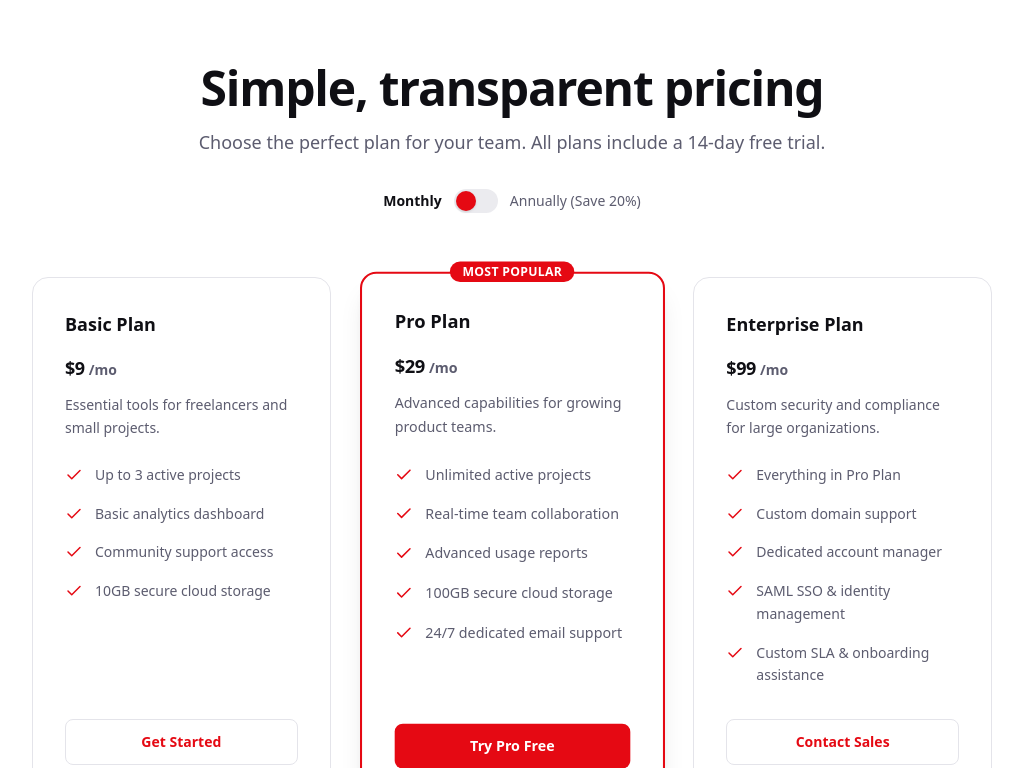
Test: ThreeTier › toggles the billing period and shows discounted pricing
The image size is (1024, 768).
Note: Toggle to Annual billing
Click the button named "Toggle billing period". click: (476, 201)
box: 454,189 -> 498,213
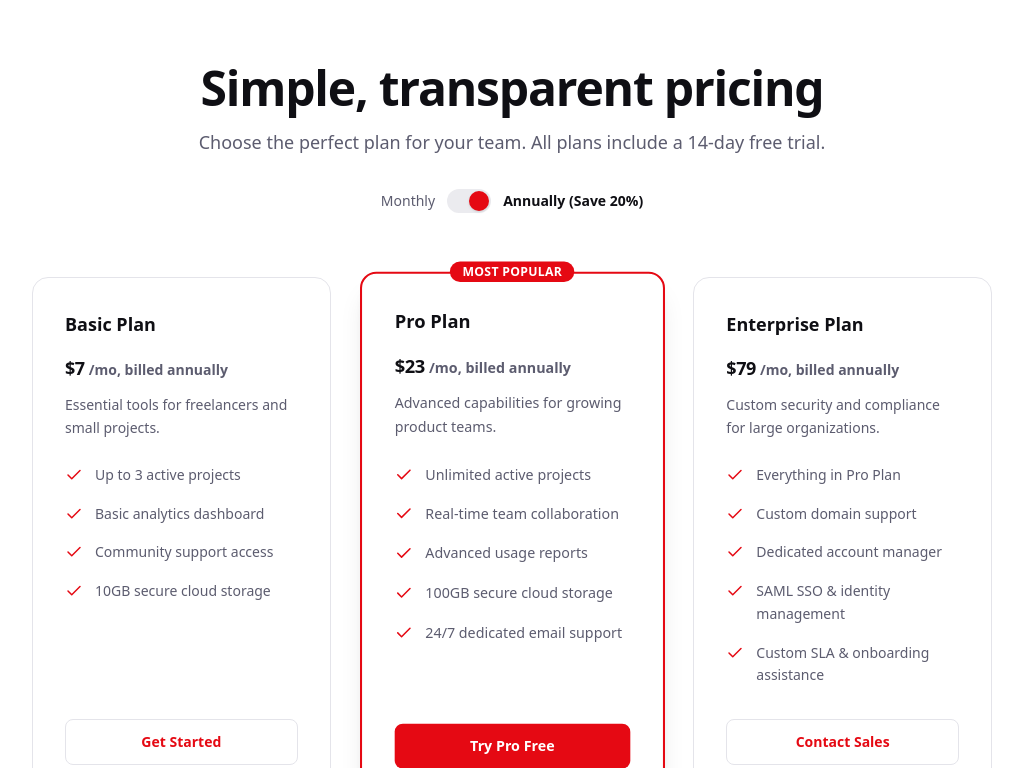
expect the text "$7" is shown: met, box 65,354 -> 85,382
expect the text "$23" is shown: met, box 394,352 -> 424,380
expect the text "$79" is shown: met, box 726,354 -> 756,382
